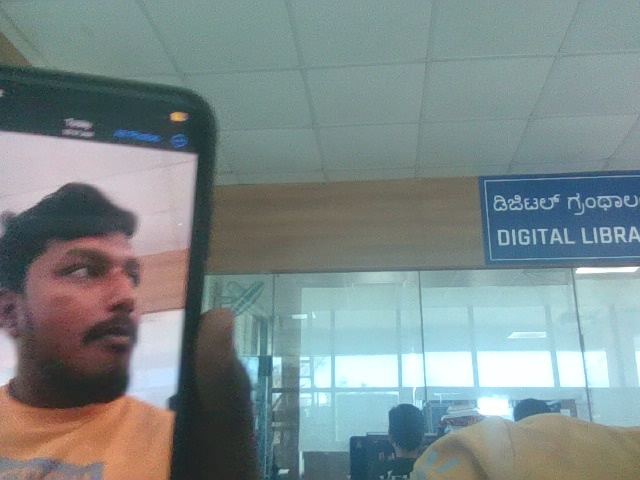fake: (6, 149, 183, 400)
